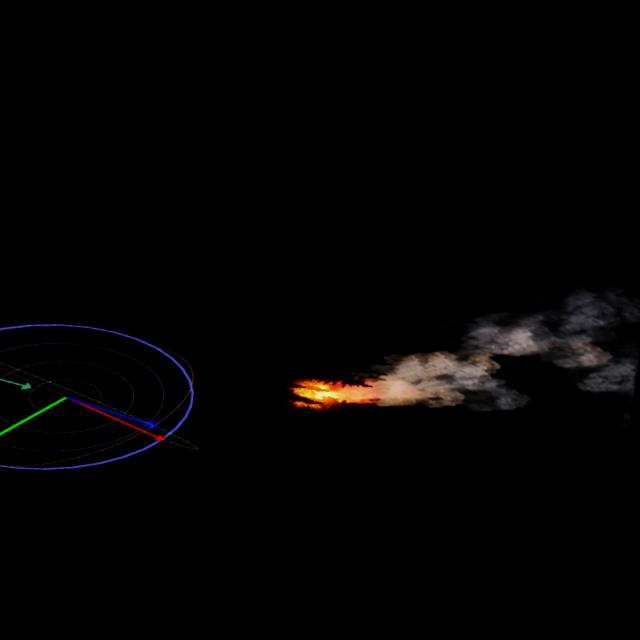fire: (288, 369, 360, 414)
smoke: (355, 261, 640, 439)
